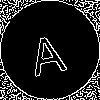A: (25, 25, 69, 77)
